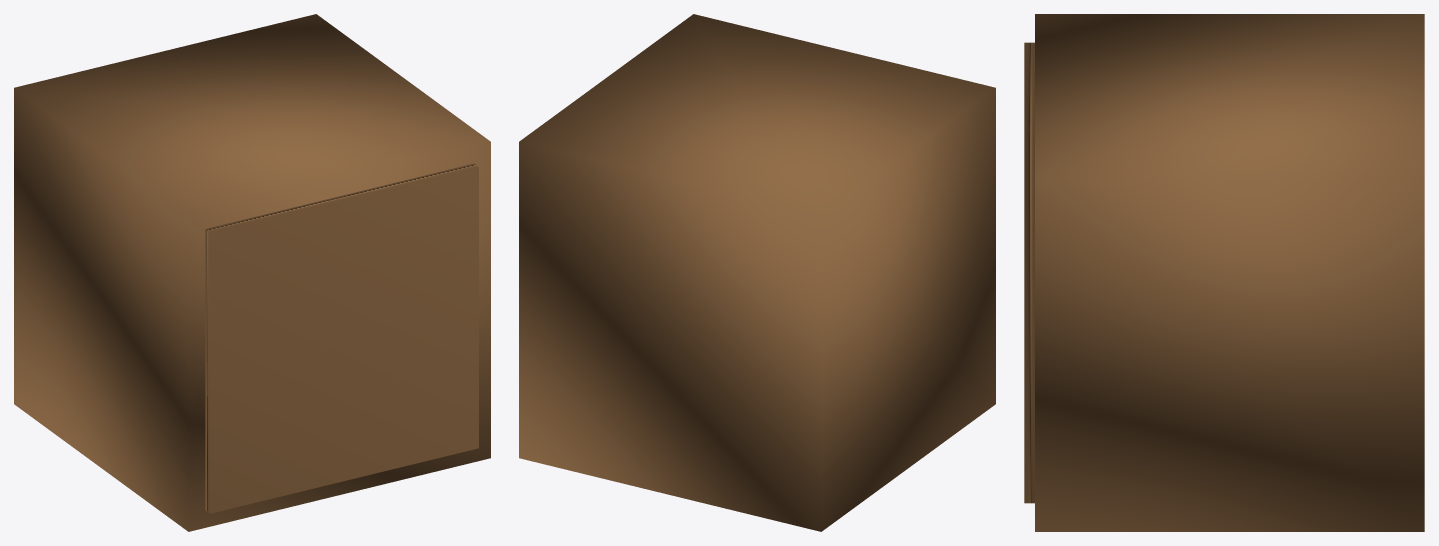
Rendered from crate.obj.
3 views of the same model, side by side, from view 1: azimuth 30°, elevation 25°; view 2: azimuth 150°, elevation 25°; view 3: azimuth 270°, elevation 25° (orthographic). The views are drawn at different scales.
Bounding box in the file's own units: 1.8 × 1.8 × 1.85.
